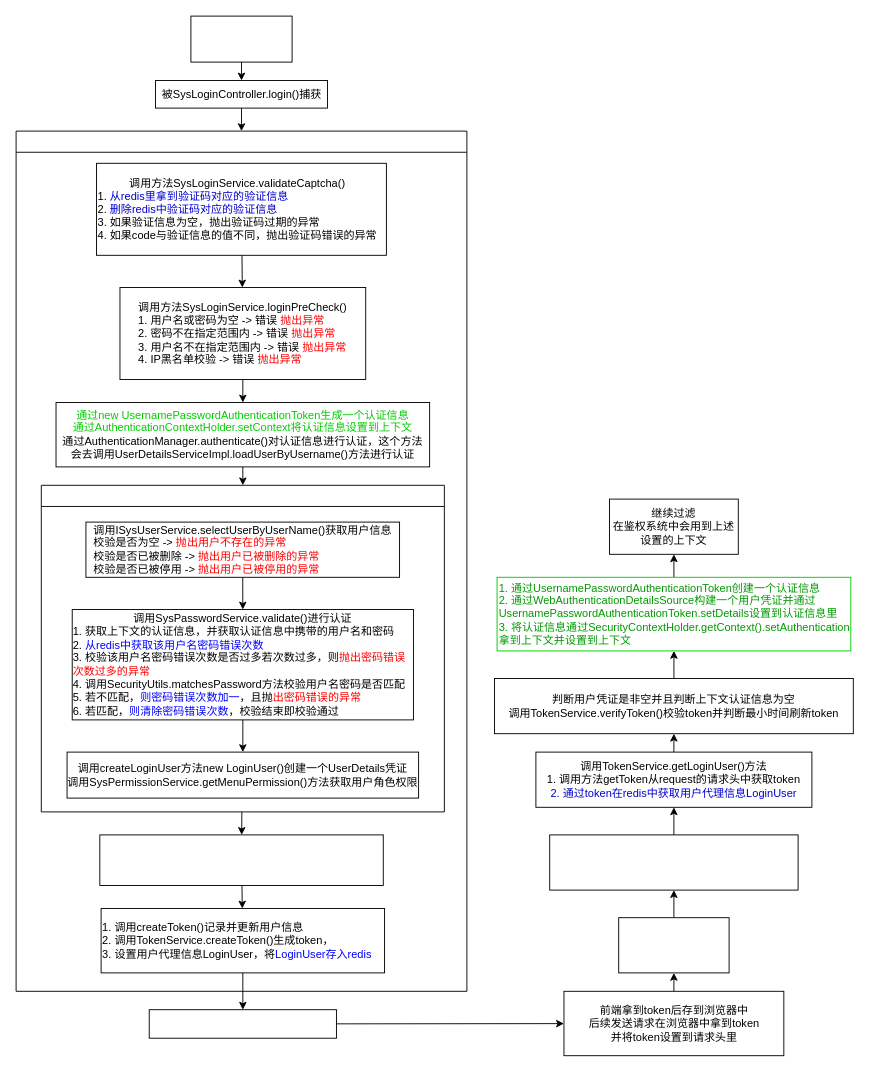
The diagram is 869 pixels wide and 1072 high, and some of its shapes have lost their labels. The shapes that lost their labels are listed below. From the top down, each one's box as (x1, y1, x2, y2) in pixels, then its label:
(190, 15, 292, 62): 访问/login
(15, 130, 467, 991): 调用方法SysLoginService.login()执行登录逻辑
(40, 484, 444, 812): loadUserByUsername
(99, 834, 383, 886): 1. 若上述环节抛出异常则处理异常并抛出对应的新的异常 2. 若上述环节正常运行，则校验环节结束 3. 无论校验结果如何，清除上下文
(549, 834, 798, 890): 触发JwtAuthenticationTokenFilter拦截器 调用doFilterInternal方法进行处理
(618, 917, 729, 973): Token认证
(148, 1009, 336, 1038): 认证成功，将Token返回给前端
